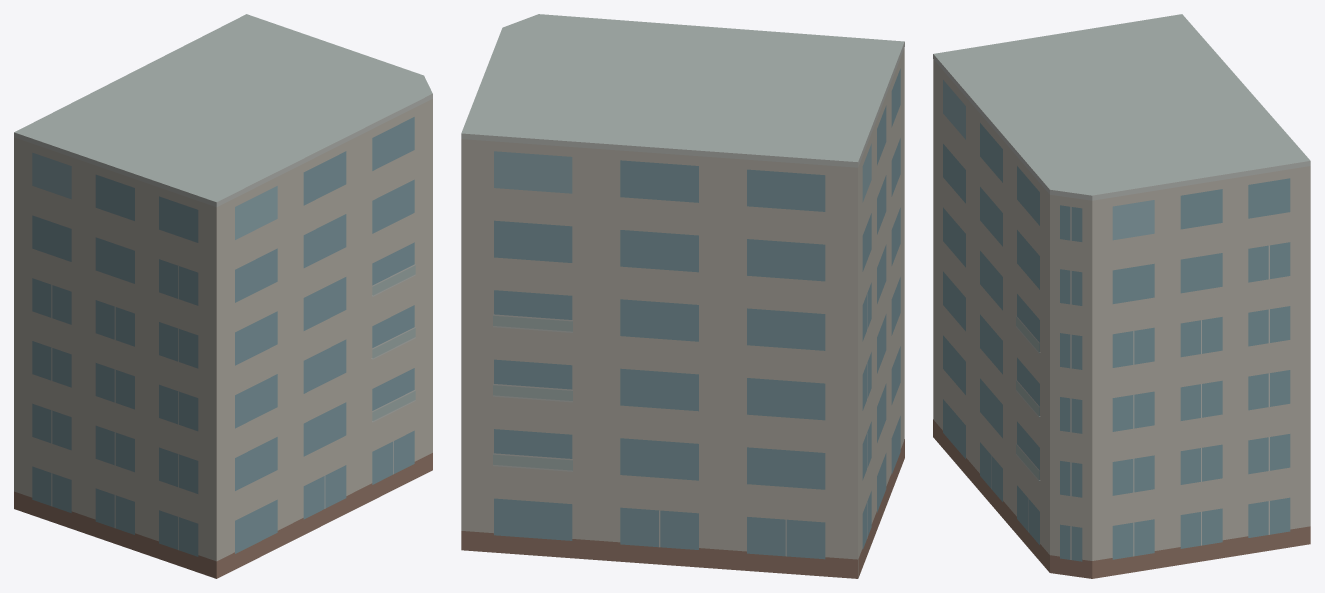
Rendered from survey-upis-32863606.glb.
3 renders of one model, left to right at view 1: azimuth 30°, elevation 25°; view 2: azimuth 150°, elevation 25°; view 3: azimuth 270°, elevation 25°, orthographic. The views are drawn at different scales.
Visible parts, largest first — view 1: survey-upis-32863606.tmp; view 2: survey-upis-32863606.tmp; view 3: survey-upis-32863606.tmp.
Boxes of the visible parts, left/top/right/bottom form: survey-upis-32863606.tmp: left=14, top=14, right=432, bottom=578; survey-upis-32863606.tmp: left=461, top=14, right=904, bottom=578; survey-upis-32863606.tmp: left=933, top=14, right=1310, bottom=578.
Bounding box in the file's own units: 18.61 × 18.3 × 16.34.
